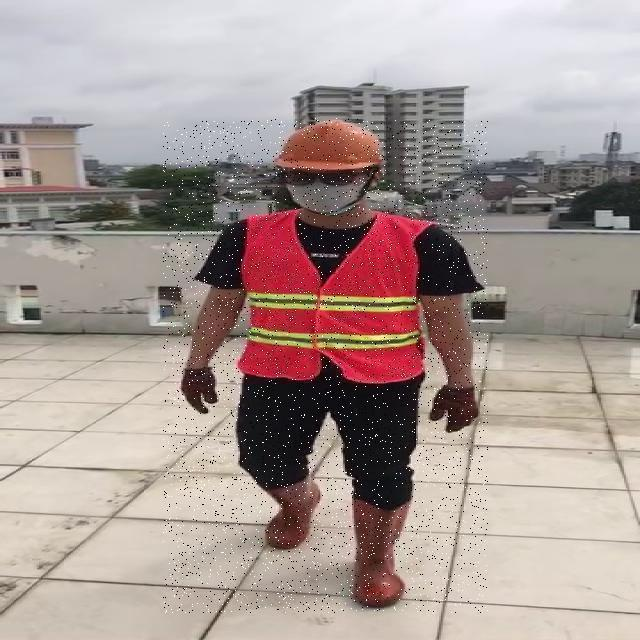gloves: (427, 385, 479, 434), (180, 367, 217, 415)
goggles: (279, 170, 380, 186)
helmet: (273, 118, 387, 168)
safety_vest: (236, 212, 426, 382)
